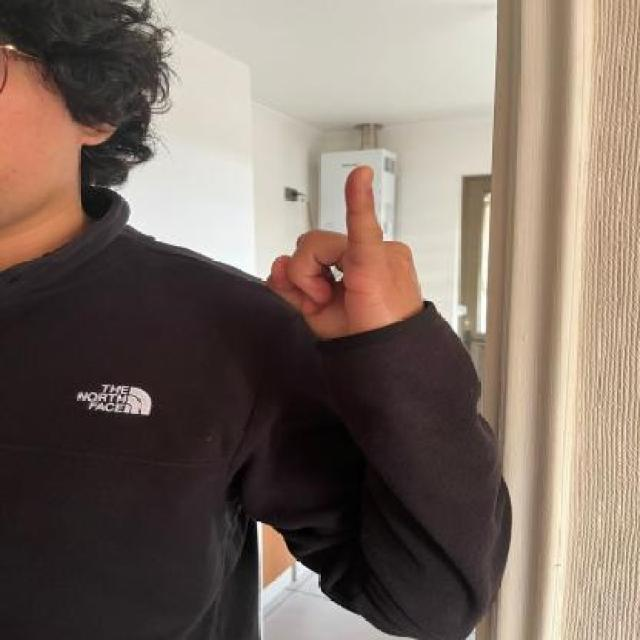I: (259, 161, 446, 374)
